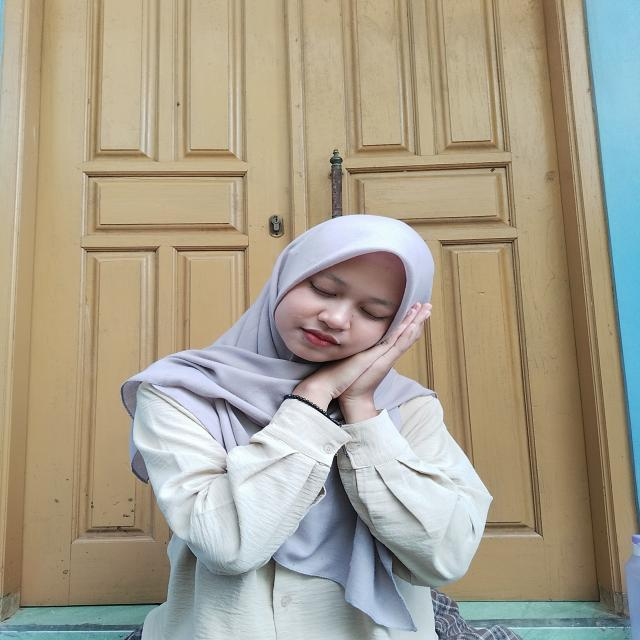tidur: (273, 300, 443, 432)
